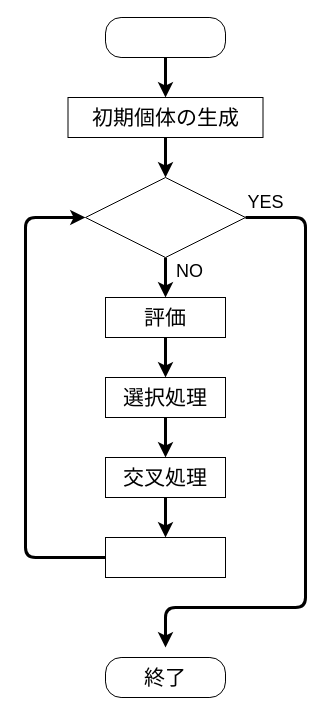
This 332x715 diagram has some shape labels left out. The shapes that lost their labels are listed below. From the top down, each one's centre as x and y in pixels, then its label:
point (165, 37): 開始
point (165, 217): 終了条件
point (165, 557): 突然変異
